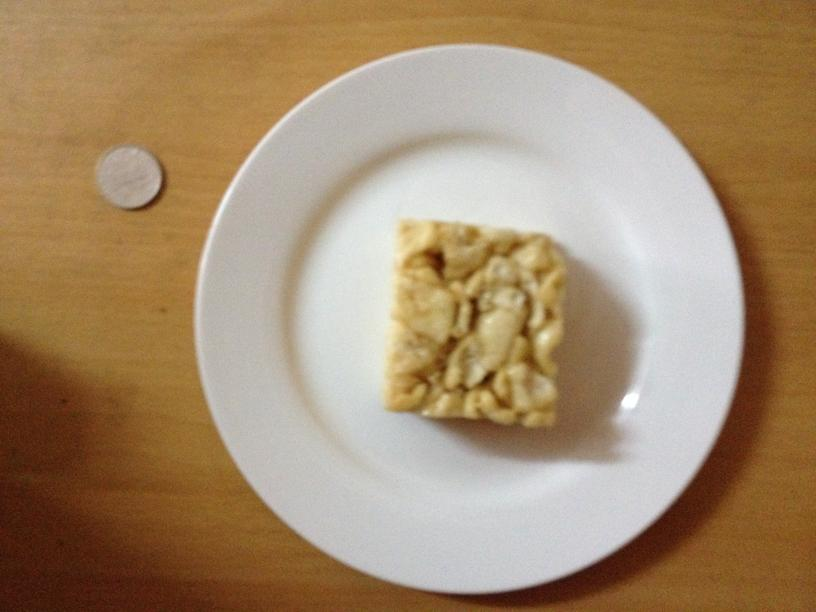coin: (88, 145, 164, 208)
sachima: (379, 216, 560, 430)
